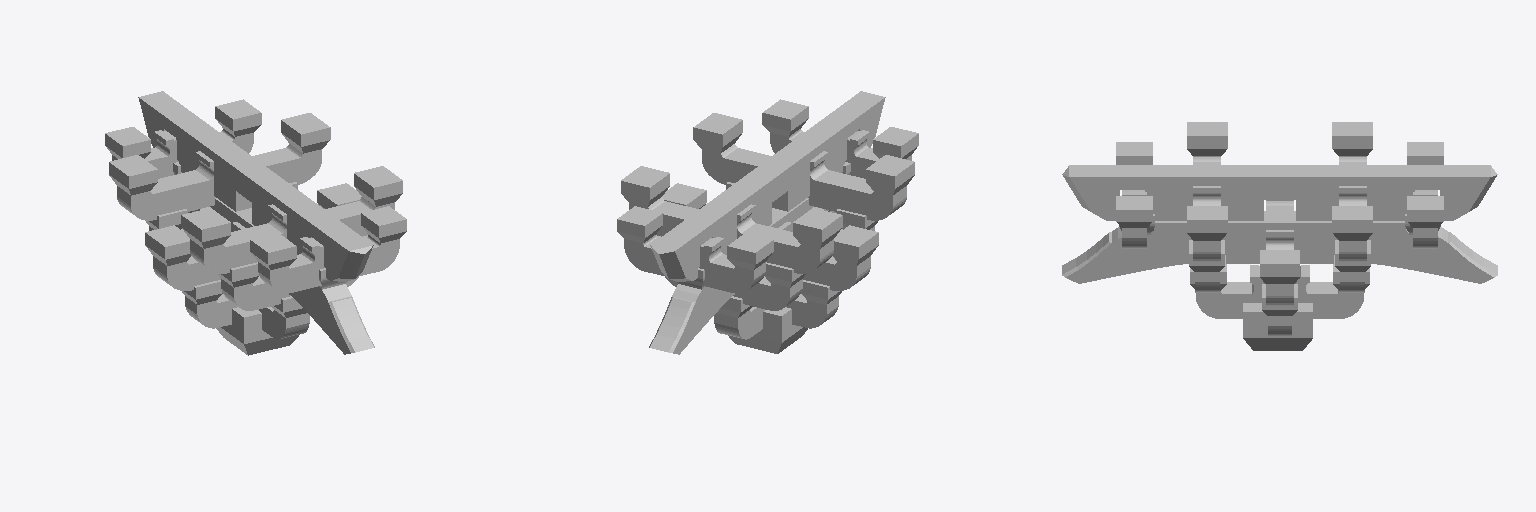
The model's file is Middle Toukung.obj.
3 renders of one model, left to right at view 1: azimuth 30°, elevation 25°; view 2: azimuth 150°, elevation 25°; view 3: azimuth 270°, elevation 25°, orthographic.
Parts seen in each view (by area): view 1: Flower_board:FlowerPl11 polySurface6195, Flower_board:FlowerPl11 polySurface6191, Flower_board:FlowerPl11 polySurface6186, Flower_board:FlowerPl11 polySurface6179, Flower_board:FlowerPl11 polySurface6177, Flower_board:FlowerPl11 polySurface6193, Flower_board:FlowerPl11 polySurface6187, Flower_board:FlowerPl11 polySurface6181, Flower_board:FlowerPl11 polySurface6178, Flower_board:FlowerPl11 polySurface6184, Flower_board:FlowerPl11 polySurface6176, Flower_board:FlowerPl11 polySurface6175 (+5 smaller); view 2: Flower_board:FlowerPl11 polySurface6191, Flower_board:FlowerPl11 polySurface6195, Flower_board:FlowerPl11 polySurface6179, Flower_board:FlowerPl11 polySurface6186, Flower_board:FlowerPl11 polySurface6184, Flower_board:FlowerPl11 polySurface6189, Flower_board:FlowerPl11 polySurface6178, Flower_board:FlowerPl11 polySurface6181, Flower_board:FlowerPl11 polySurface6187, Flower_board:FlowerPl11 polySurface6177, Flower_board:FlowerPl11 polySurface6185, Flower_board:FlowerPl11 polySurface6182 (+5 smaller); view 3: Flower_board:FlowerPl11 polySurface6191, Flower_board:FlowerPl11 polySurface6195, Flower_board:FlowerPl11 polySurface6189, Flower_board:FlowerPl11 polySurface6193, Flower_board:FlowerPl11 polySurface6178, Flower_board:FlowerPl11 polySurface6187, Flower_board:FlowerPl11 polySurface6180, polySurface6171 Flower_board:FlowerPl11, Flower_board:FlowerPl11 polySurface6188, Flower_board:FlowerPl11 polySurface6192, Flower_board:FlowerPl11 polySurface6176, Flower_board:FlowerPl11 polySurface6185 (+7 smaller).
Part boxes in pixels (x1,y1,x2,y2): Flower_board:FlowerPl11 polySurface6195: (243, 168, 373, 281); Flower_board:FlowerPl11 polySurface6191: (138, 91, 267, 211); Flower_board:FlowerPl11 polySurface6186: (109, 151, 215, 220); Flower_board:FlowerPl11 polySurface6179: (181, 204, 286, 273); Flower_board:FlowerPl11 polySurface6177: (250, 233, 324, 293); Flower_board:FlowerPl11 polySurface6193: (244, 218, 374, 354); Flower_board:FlowerPl11 polySurface6187: (252, 113, 330, 184); Flower_board:FlowerPl11 polySurface6181: (145, 222, 245, 290); Flower_board:FlowerPl11 polySurface6178: (325, 166, 402, 236); Flower_board:FlowerPl11 polySurface6184: (105, 127, 178, 178); Flower_board:FlowerPl11 polySurface6176: (358, 206, 406, 276); Flower_board:FlowerPl11 polySurface6175: (218, 262, 290, 310); Flower_board:FlowerPl11 polySurface6191: (650, 168, 780, 281); Flower_board:FlowerPl11 polySurface6195: (756, 91, 885, 211); Flower_board:FlowerPl11 polySurface6179: (808, 151, 914, 220); Flower_board:FlowerPl11 polySurface6186: (737, 204, 842, 273); Flower_board:FlowerPl11 polySurface6184: (699, 233, 773, 293); Flower_board:FlowerPl11 polySurface6189: (649, 218, 779, 354); Flower_board:FlowerPl11 polySurface6178: (693, 113, 771, 184); Flower_board:FlowerPl11 polySurface6181: (778, 222, 878, 290); Flower_board:FlowerPl11 polySurface6187: (621, 166, 698, 236); Flower_board:FlowerPl11 polySurface6177: (845, 127, 918, 178); Flower_board:FlowerPl11 polySurface6185: (617, 206, 665, 276); Flower_board:FlowerPl11 polySurface6182: (733, 262, 805, 310); Flower_board:FlowerPl11 polySurface6191: (1280, 165, 1497, 220); Flower_board:FlowerPl11 polySurface6195: (1062, 165, 1279, 220); Flower_board:FlowerPl11 polySurface6189: (1280, 211, 1497, 283); Flower_board:FlowerPl11 polySurface6193: (1062, 211, 1279, 283); Flower_board:FlowerPl11 polySurface6178: (1187, 186, 1227, 261); Flower_board:FlowerPl11 polySurface6187: (1332, 186, 1372, 261); Flower_board:FlowerPl11 polySurface6180: (1260, 230, 1299, 305); polySurface6171 Flower_board:FlowerPl11: (1243, 303, 1312, 350); Flower_board:FlowerPl11 polySurface6188: (1295, 255, 1369, 318); Flower_board:FlowerPl11 polySurface6192: (1190, 255, 1264, 318); Flower_board:FlowerPl11 polySurface6176: (1116, 190, 1152, 248); Flower_board:FlowerPl11 polySurface6185: (1407, 190, 1443, 248).
Bounding box in the file's own units: 0.7181 × 0.577 × 1.35.